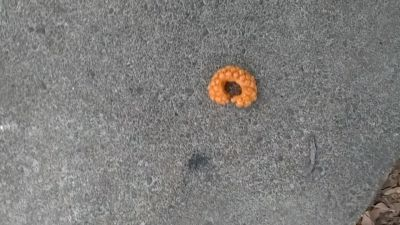eggs: (206, 65, 259, 109)
